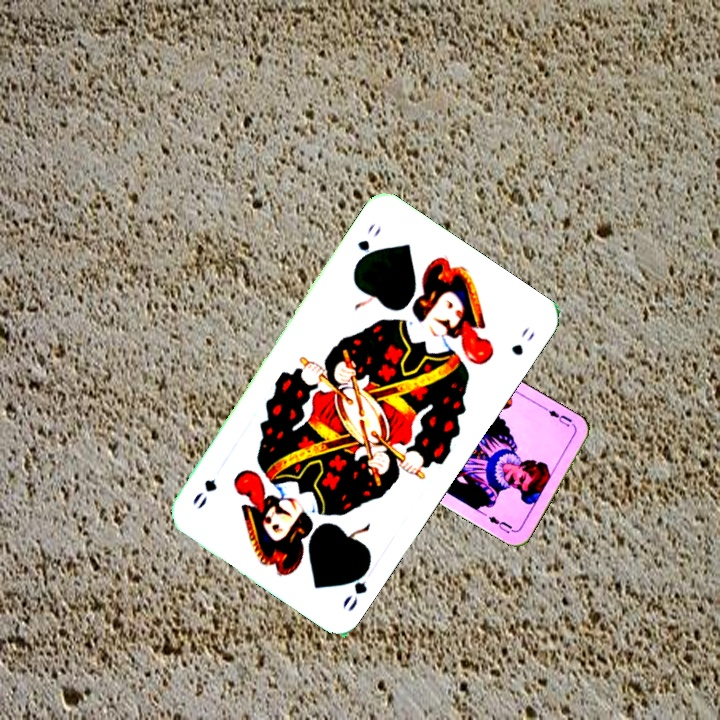EU: (540, 403, 575, 430)
GO: (338, 558, 374, 615), (351, 219, 385, 269)
